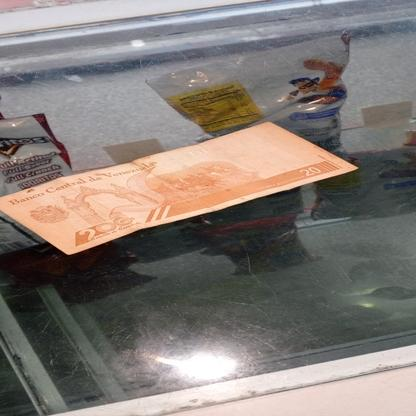twenty-back-vef: (0, 120, 359, 255)
